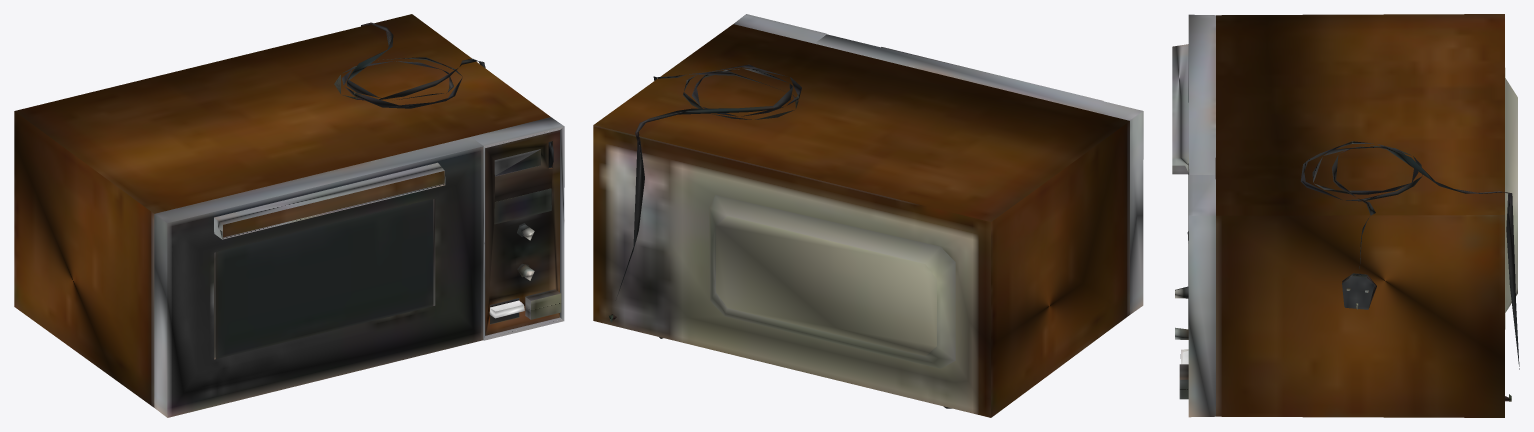
Rendered from microwave_lo.glb.
3 views of the same model, side by side, from view 1: azimuth 30°, elevation 25°; view 2: azimuth 150°, elevation 25°; view 3: azimuth 270°, elevation 25° (orthographic). The views are drawn at different scales.
Parts seen in each view (by area): view 1: vintage_microwave; view 2: vintage_microwave; view 3: vintage_microwave.
Part boxes in pixels (x1,y1,x2,y2): vintage_microwave: (14, 14, 564, 417); vintage_microwave: (593, 14, 1143, 417); vintage_microwave: (1172, 14, 1519, 417).
Size of the model in its own units: 1.07 by 0.5221 by 0.7336.
Materials: 2 (2 with a texture image).
